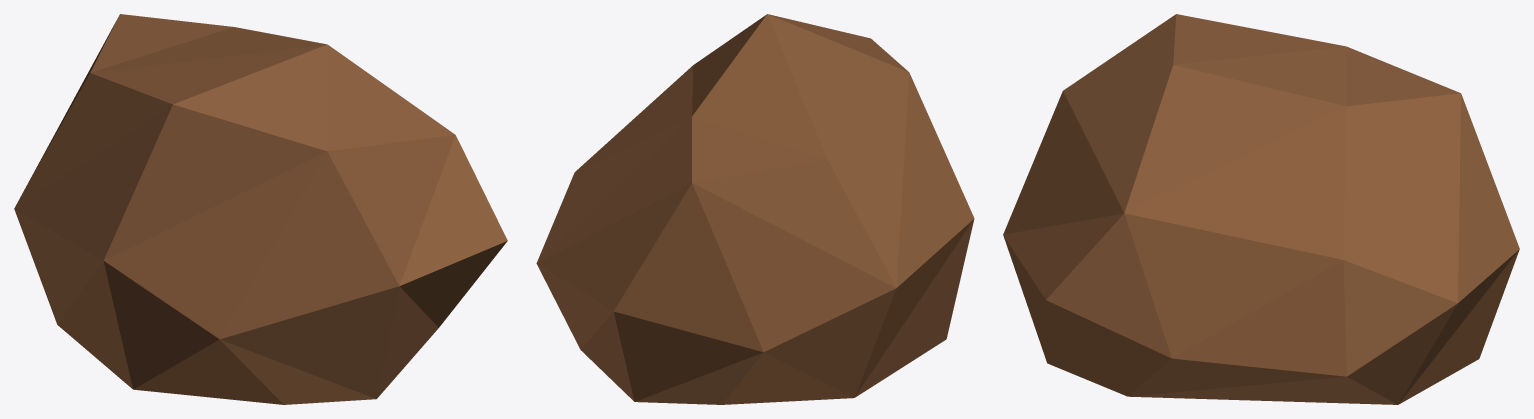
File: stone-round_orange.glb
The picture shows the model from 3 angles, left to right: view 1: azimuth 30°, elevation 25°; view 2: azimuth 150°, elevation 25°; view 3: azimuth 270°, elevation 25°; orthographic projection. The views are drawn at different scales.
Visible parts, largest first — view 1: stone-round_orange; view 2: stone-round_orange; view 3: stone-round_orange.
Boxes of the visible parts, box(x1,y1,x2,y2) form: stone-round_orange: box(14, 14, 507, 404); stone-round_orange: box(536, 14, 974, 404); stone-round_orange: box(1003, 14, 1519, 404).
Size of the model in its own units: 2.58 by 2.27 by 3.03.
Materials: 1 (1 with a texture image).
